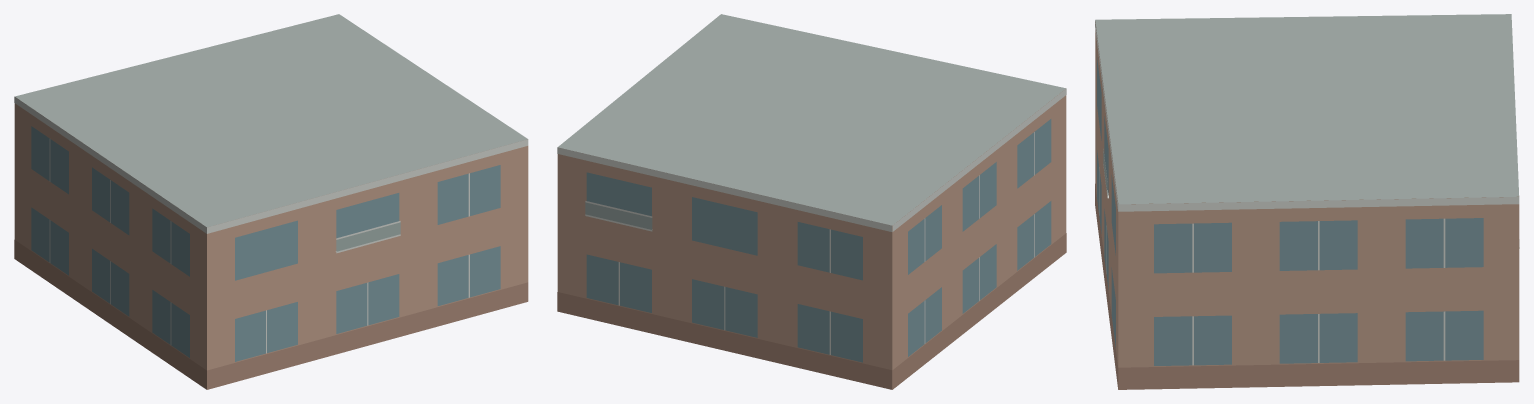
The model's file is survey-upis-32880499.glb.
3 renders of one model, left to right at view 1: azimuth 30°, elevation 25°; view 2: azimuth 150°, elevation 25°; view 3: azimuth 270°, elevation 25°, orthographic. The views are drawn at different scales.
Parts seen in each view (by area): view 1: survey-upis-32880499.tmp; view 2: survey-upis-32880499.tmp; view 3: survey-upis-32880499.tmp.
Boxes of the visible parts, x1,y1,x2,y2 form: survey-upis-32880499.tmp: [14, 14, 528, 389]; survey-upis-32880499.tmp: [557, 14, 1066, 389]; survey-upis-32880499.tmp: [1095, 14, 1519, 389].
Bounding box in the file's own units: 13.43 × 6.1 × 12.66.
